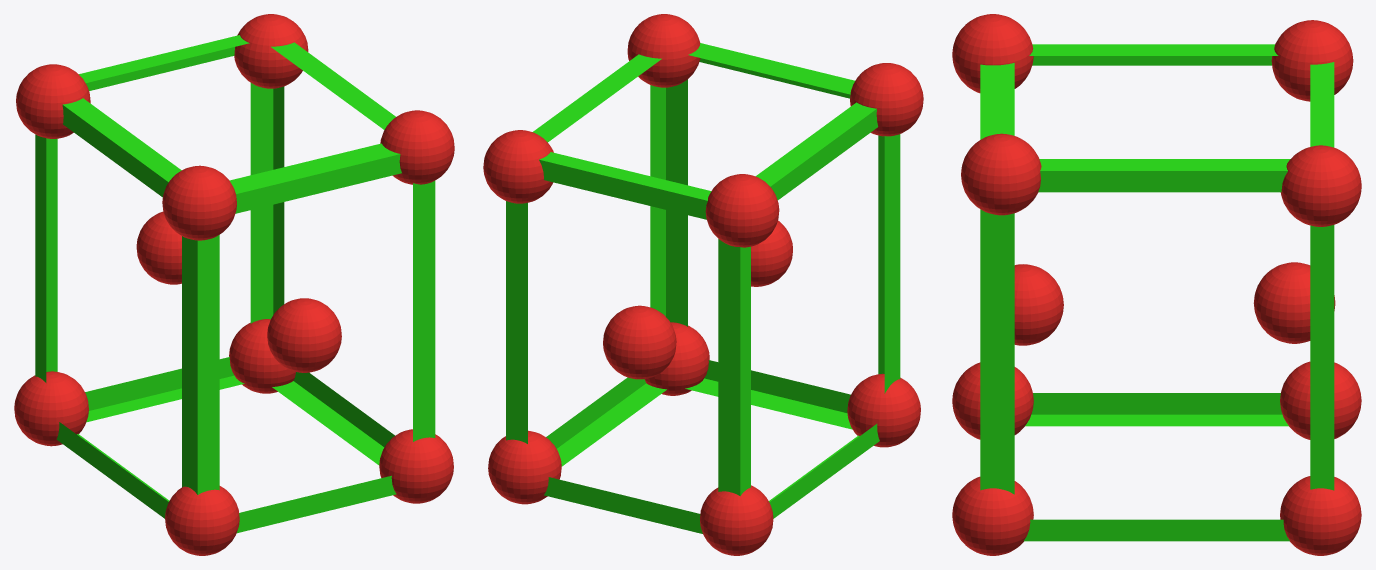
Rendered from orthoV3.fbx.
3 renders of one model, left to right at view 1: azimuth 30°, elevation 25°; view 2: azimuth 150°, elevation 25°; view 3: azimuth 270°, elevation 25°, orthographic. The views are drawn at different scales.
Parts seen in each view (by area): view 1: Sphere.004; view 2: Sphere.004; view 3: Sphere.004.
Part boxes in pixels (x1,y1,x2,y2): Sphere.004: (14,14,454,555); Sphere.004: (483,14,923,555); Sphere.004: (952,14,1361,555).
Bounding box in the file's own units: 265 × 339 × 301.
